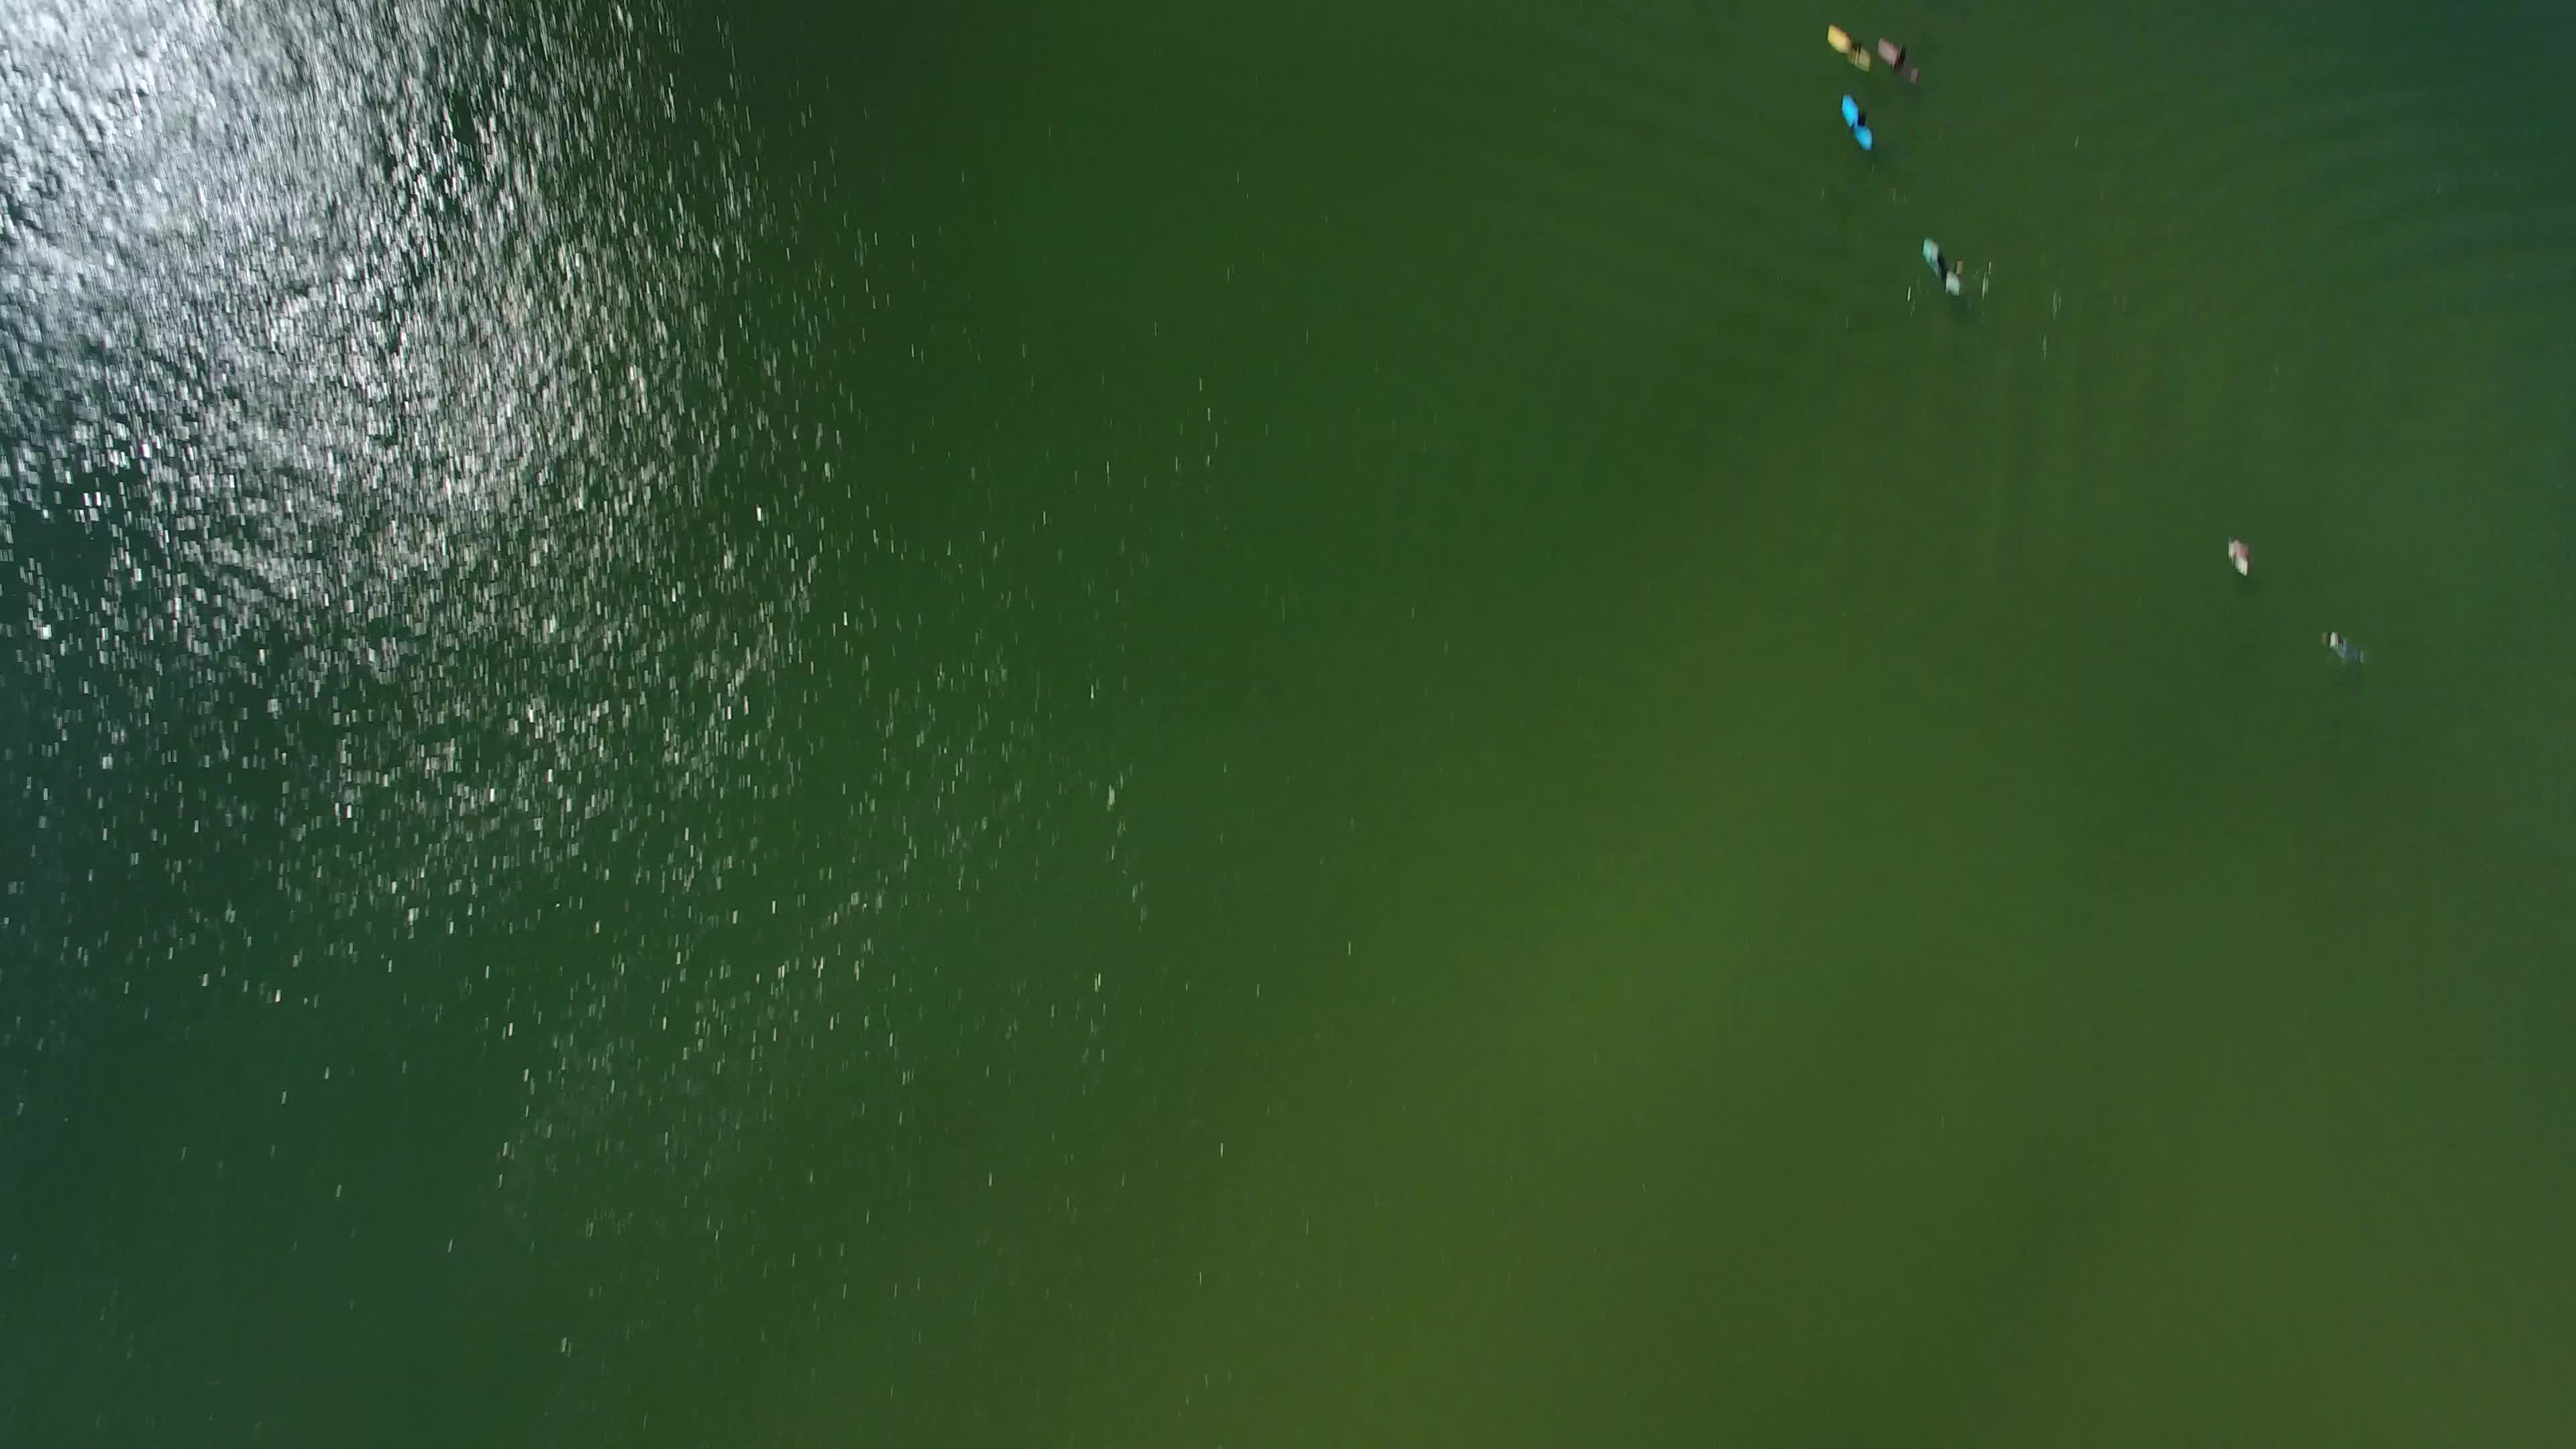surfer: (1913, 235, 1971, 303), (1831, 94, 1886, 157), (1819, 25, 1884, 78), (1875, 41, 1928, 85), (2224, 536, 2258, 584)
